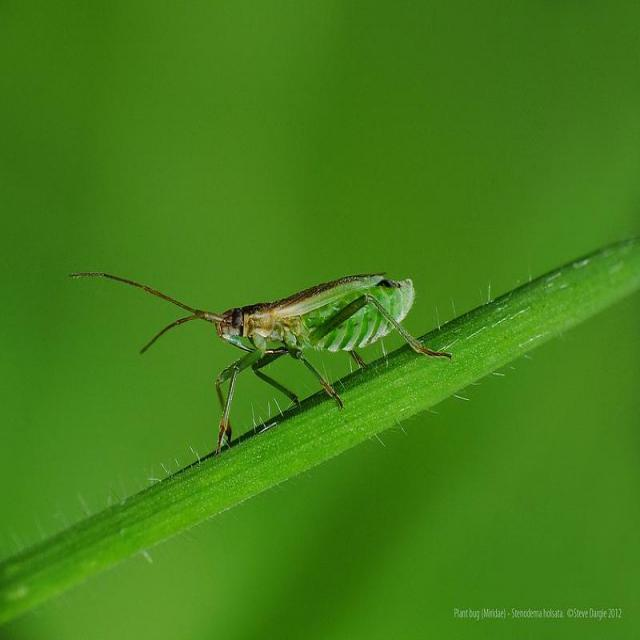Miridae-Adult-: (58, 239, 467, 456)
